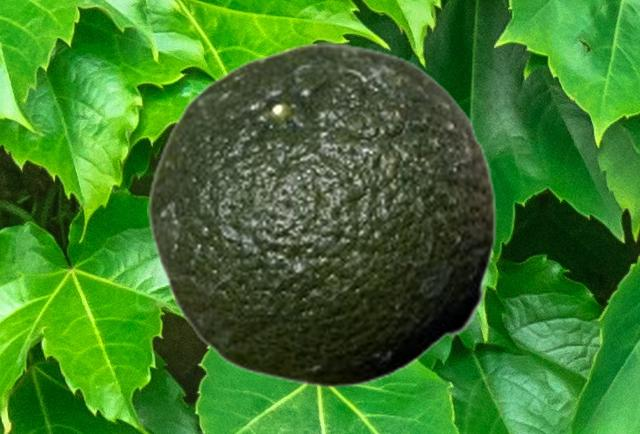calamansi: (147, 42, 496, 387)
